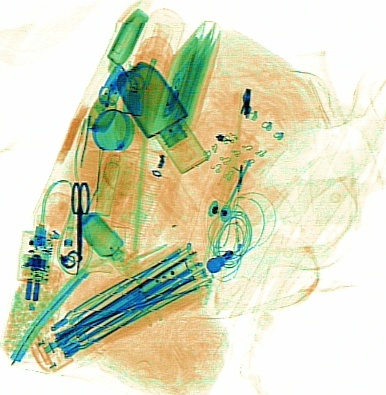scissors: (68, 179, 89, 274)
